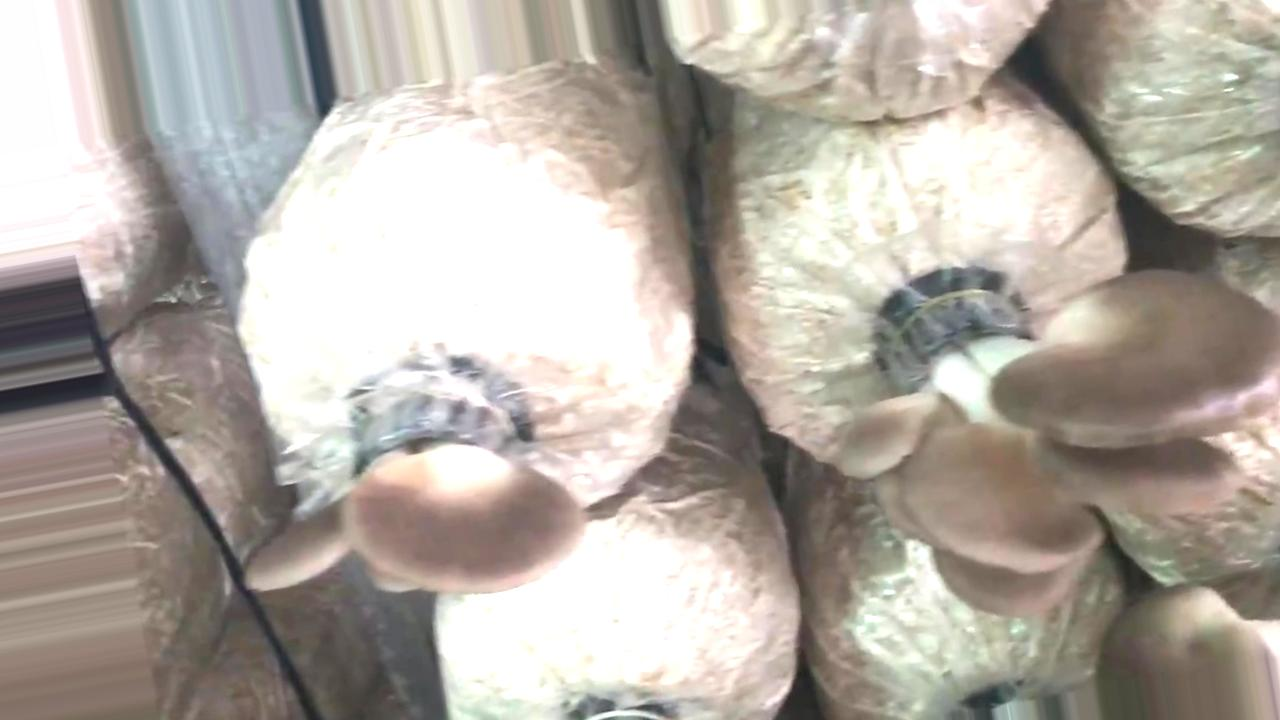nam: (831, 260, 1280, 618), (241, 364, 591, 607)
